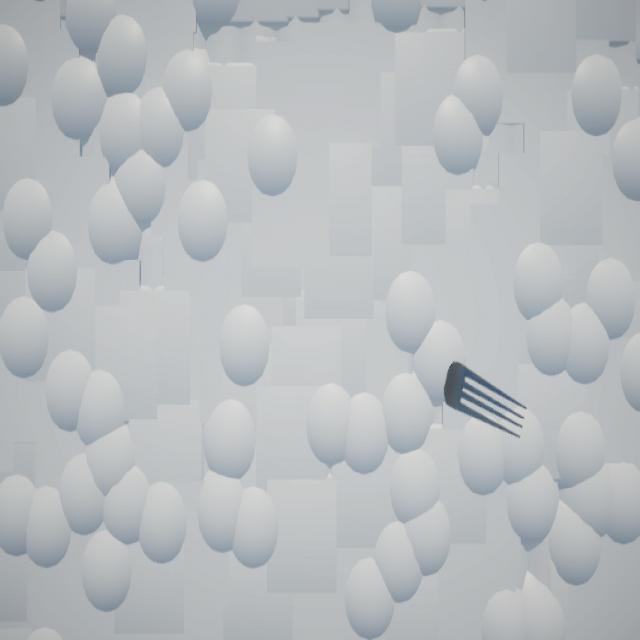top_folk: (444, 362, 528, 439)
